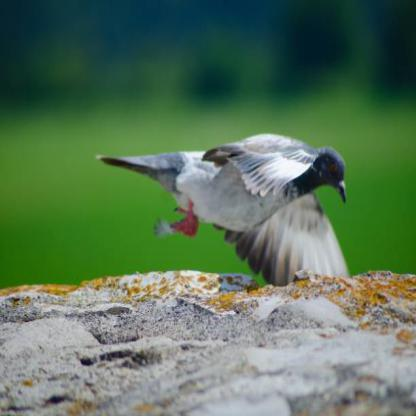Flying Rat: (83, 127, 357, 274)
